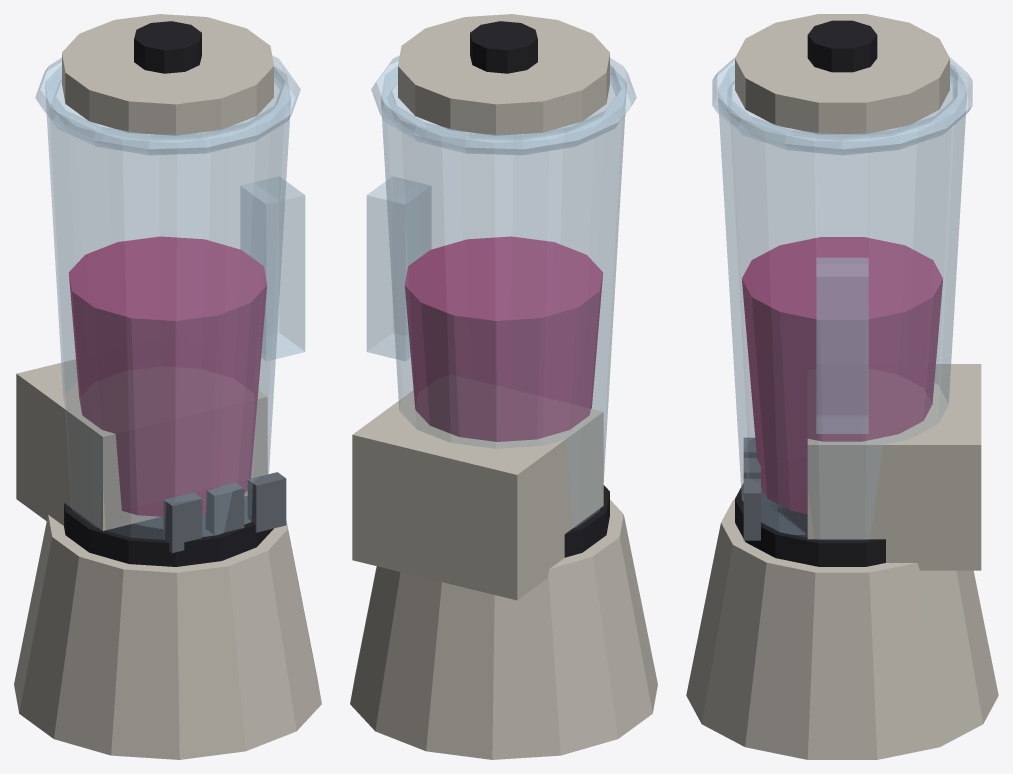
Rendered from blender.glb.
3 renders of one model, left to right at view 1: azimuth 30°, elevation 25°; view 2: azimuth 150°, elevation 25°; view 3: azimuth 270°, elevation 25°, orthographic.
Visible parts, largest first — view 1: blender; view 2: blender; view 3: blender.
Boxes of the visible parts, box(x1,y1,x2,y2) form: blender: box(14, 14, 321, 759); blender: box(350, 14, 657, 759); blender: box(686, 14, 998, 759).
Bounding box in the file's own units: 0.1755 × 0.42 × 0.18.
